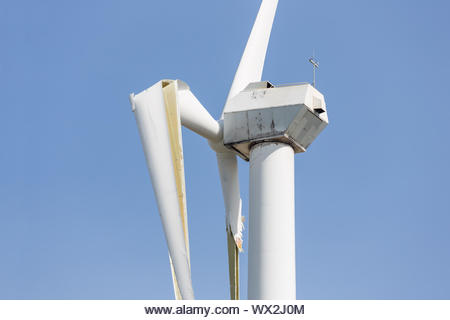faulty: (125, 46, 331, 262)
